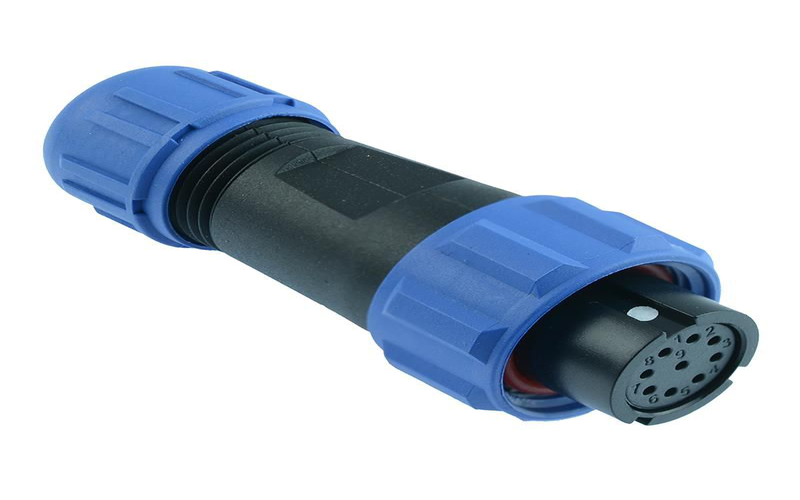Switches: (38, 50, 759, 484)
